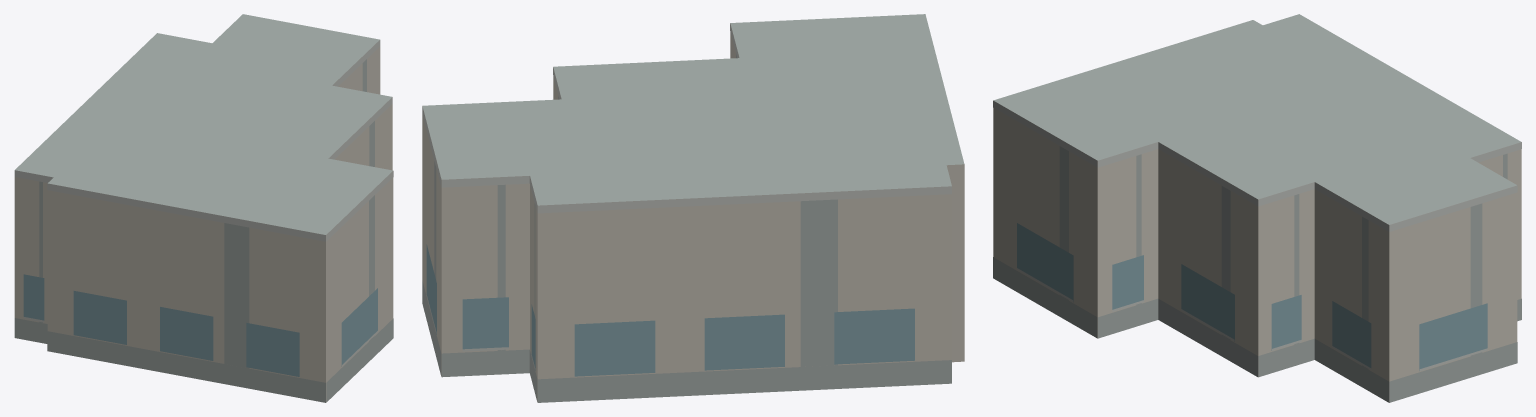
Rendered from residential-e5af46b5-123f-4bdd-929f-0f126a74a2df.glb.
3 renders of one model, left to right at view 1: azimuth 30°, elevation 25°; view 2: azimuth 150°, elevation 25°; view 3: azimuth 270°, elevation 25°, orthographic. The views are drawn at different scales.
Visible parts, largest first — view 1: residential-e5af46b5-123f-4bdd-929f-0f126a74a2df.tmp; view 2: residential-e5af46b5-123f-4bdd-929f-0f126a74a2df.tmp; view 3: residential-e5af46b5-123f-4bdd-929f-0f126a74a2df.tmp.
Boxes of the visible parts, x1,y1,x2,y2 form: residential-e5af46b5-123f-4bdd-929f-0f126a74a2df.tmp: (14, 14, 393, 402); residential-e5af46b5-123f-4bdd-929f-0f126a74a2df.tmp: (422, 14, 964, 402); residential-e5af46b5-123f-4bdd-929f-0f126a74a2df.tmp: (993, 14, 1521, 402).
Bounding box in the file's own units: 15.53 × 6.1 × 16.44.
